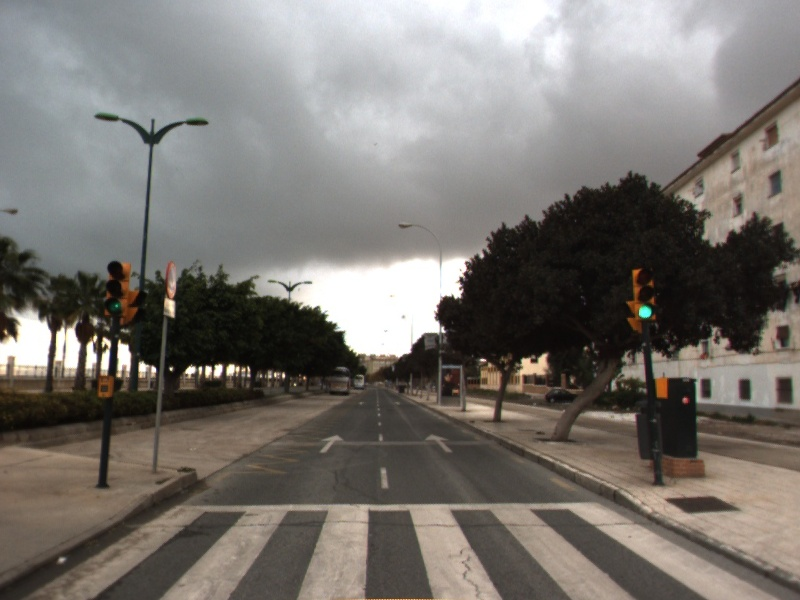STRAIGHT: (423, 432, 456, 454), (317, 432, 346, 455)
